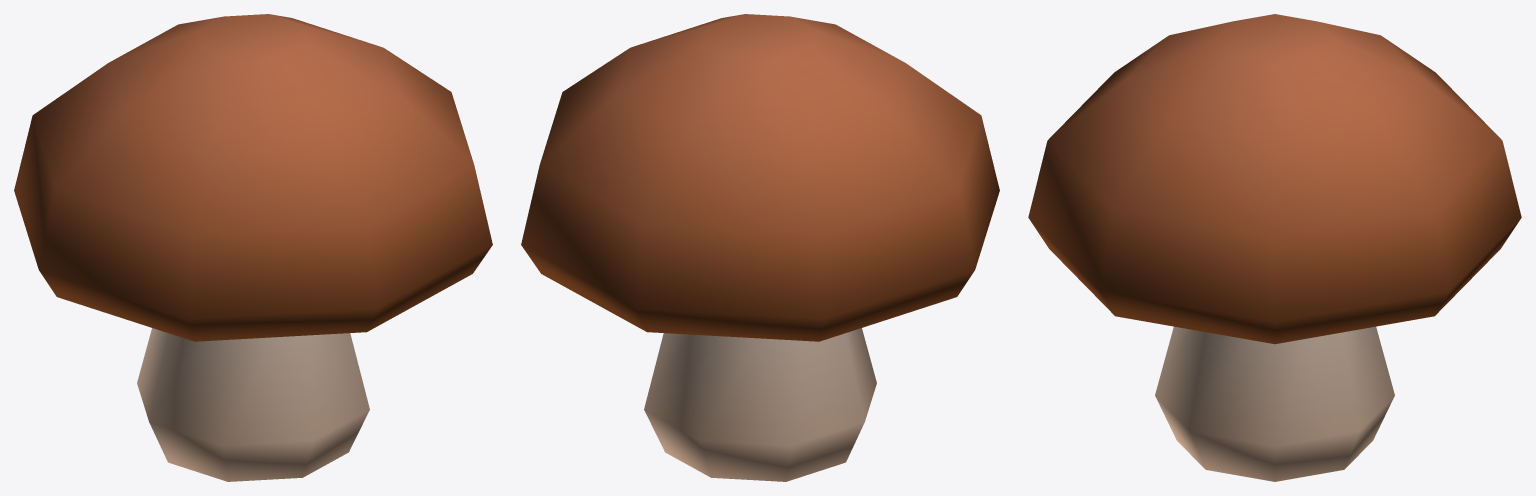
File: Mushroom1_Color5.fbx
3 renders of one model, left to right at view 1: azimuth 30°, elevation 25°; view 2: azimuth 150°, elevation 25°; view 3: azimuth 270°, elevation 25°, orthographic.
Parts seen in each view (by area): view 1: Mushroom1_Color5; view 2: Mushroom1_Color5; view 3: Mushroom1_Color5.
Part boxes in pixels (<box>): Mushroom1_Color5: <box>14,14,492,481</box>; Mushroom1_Color5: <box>521,14,999,481</box>; Mushroom1_Color5: <box>1028,14,1521,481</box>.
Size of the model in its own units: 13.93 by 12.51 by 13.93.
